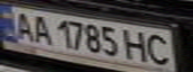1: (51, 17, 72, 48)
5: (100, 24, 124, 57)
7: (66, 19, 84, 51)
8: (81, 21, 103, 54)
A: (9, 9, 39, 42), (27, 14, 54, 45)
C: (142, 32, 175, 65)
H: (121, 28, 151, 62)
